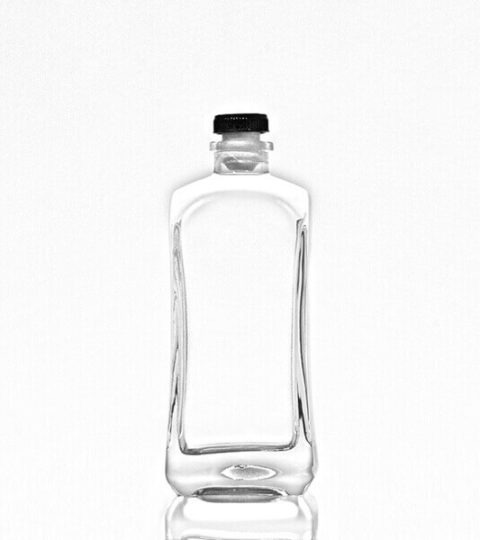container: (158, 106, 324, 513)
